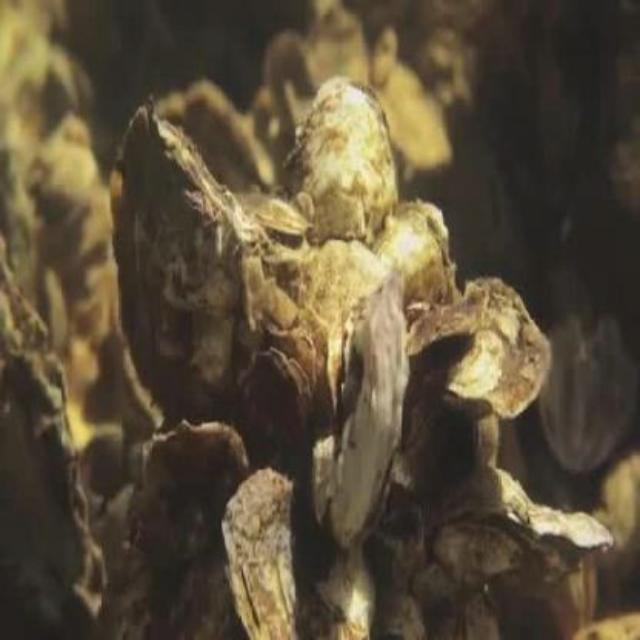Oyster-Closed: (109, 95, 266, 424), (0, 234, 106, 614), (329, 278, 411, 550), (291, 77, 400, 242), (223, 469, 321, 638), (138, 419, 248, 568), (446, 278, 550, 418), (153, 82, 275, 195), (376, 199, 454, 310), (304, 239, 388, 334), (379, 62, 453, 167), (253, 351, 312, 474), (433, 466, 533, 531), (435, 521, 526, 585), (302, 8, 373, 90), (598, 459, 638, 589), (409, 303, 479, 375), (320, 545, 376, 630), (529, 505, 613, 556), (264, 30, 315, 97), (237, 193, 308, 236), (561, 560, 599, 633), (456, 415, 498, 469), (568, 615, 638, 638), (373, 28, 399, 87), (282, 87, 302, 143)
Oyster-Open: (328, 308, 363, 436), (481, 175, 506, 247)
